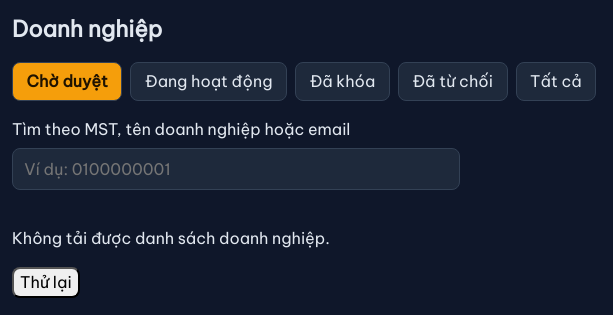
Test: Bốn trạng thái UI + bộ lọc › trạng thái LỖI có nút thử lại và gọi lại được
The image size is (613, 315).
Click the button "Thử lại".
click(46, 283)  # box [12,267,80,298]
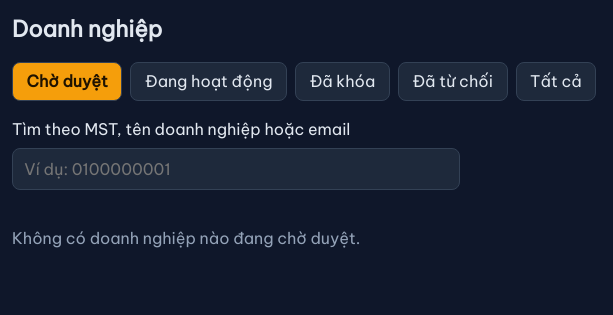
Now the message "Không tải được danh sách doanh nghiệp. Thử lại" is gone
